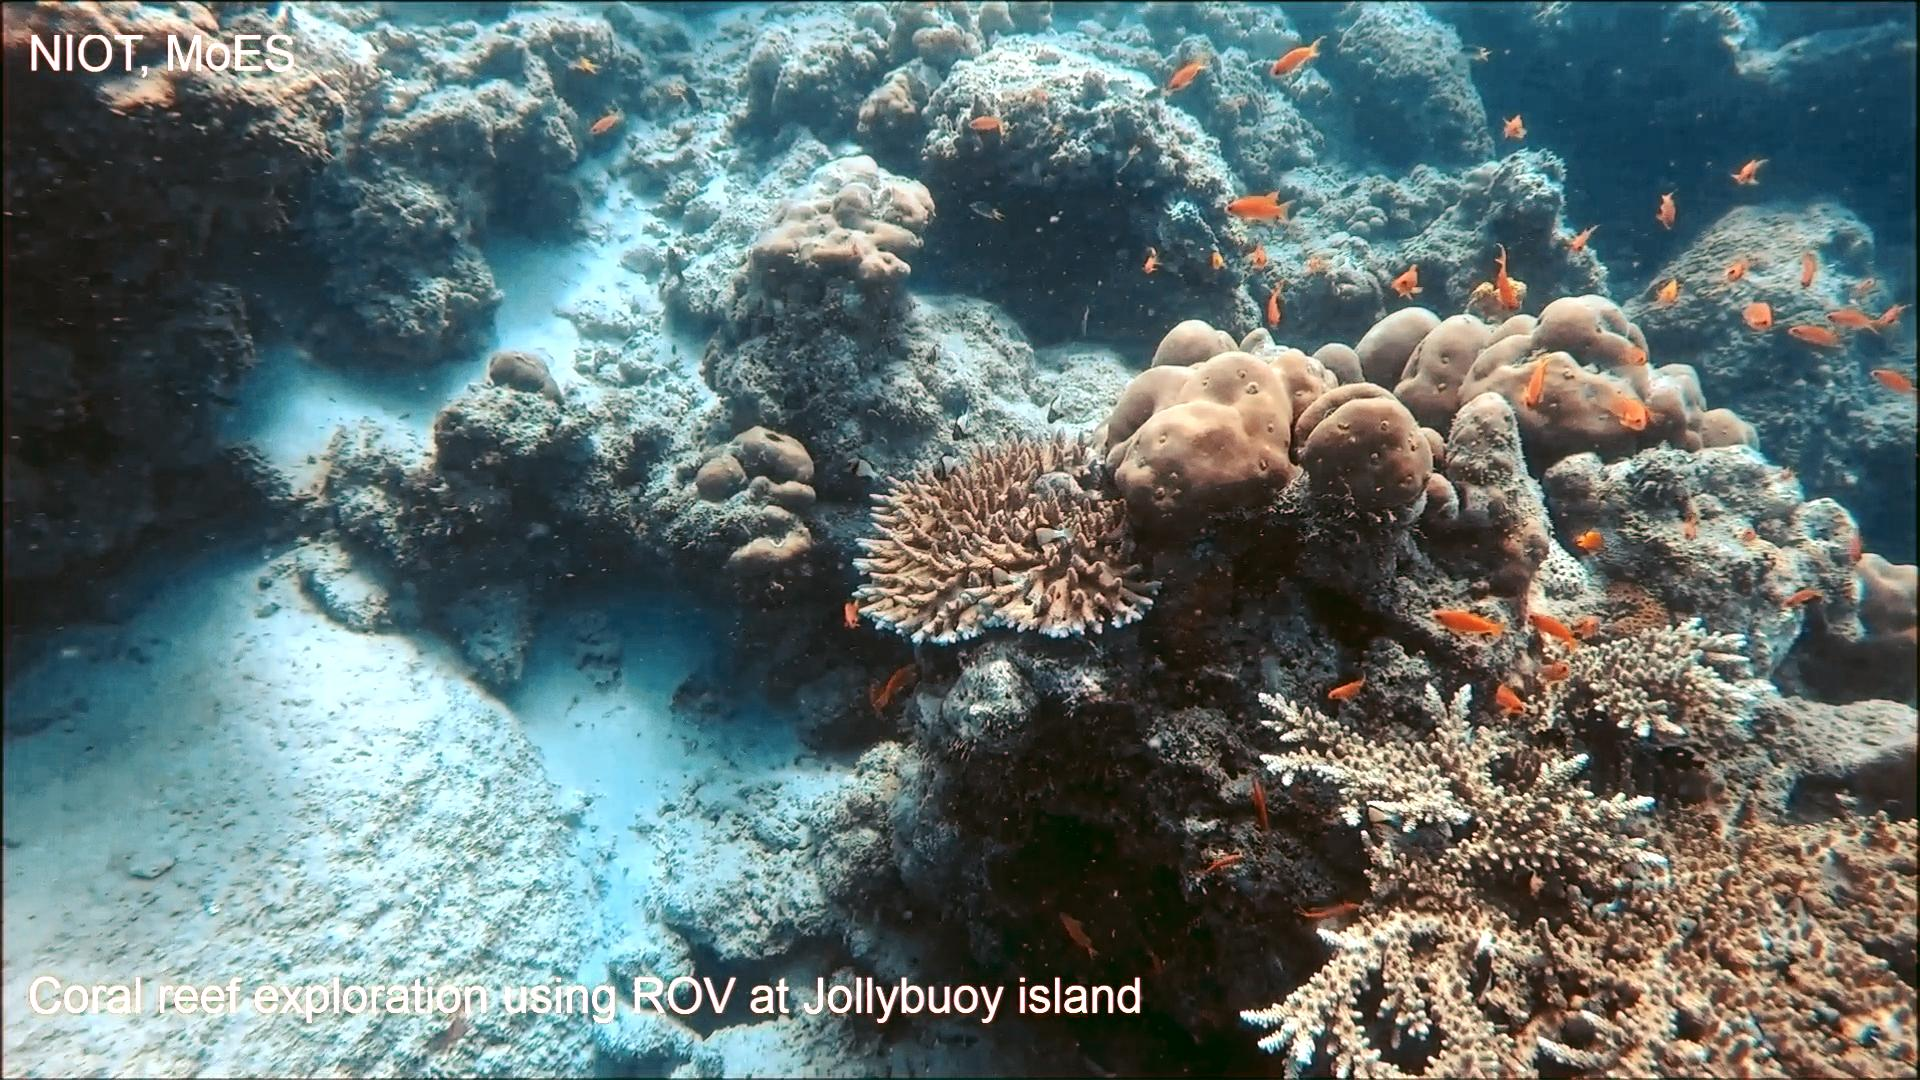Porites-Porites pukoensis: (1083, 313, 1443, 551), (1349, 282, 1759, 467)
